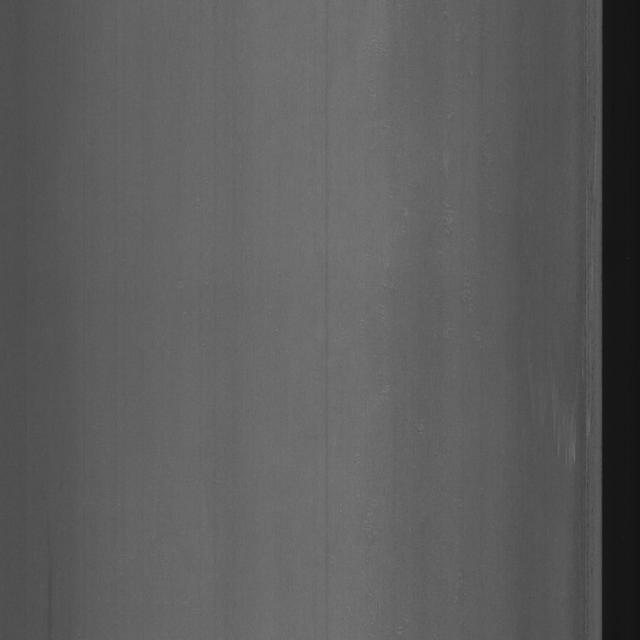inclusion: (564, 31, 596, 530)
